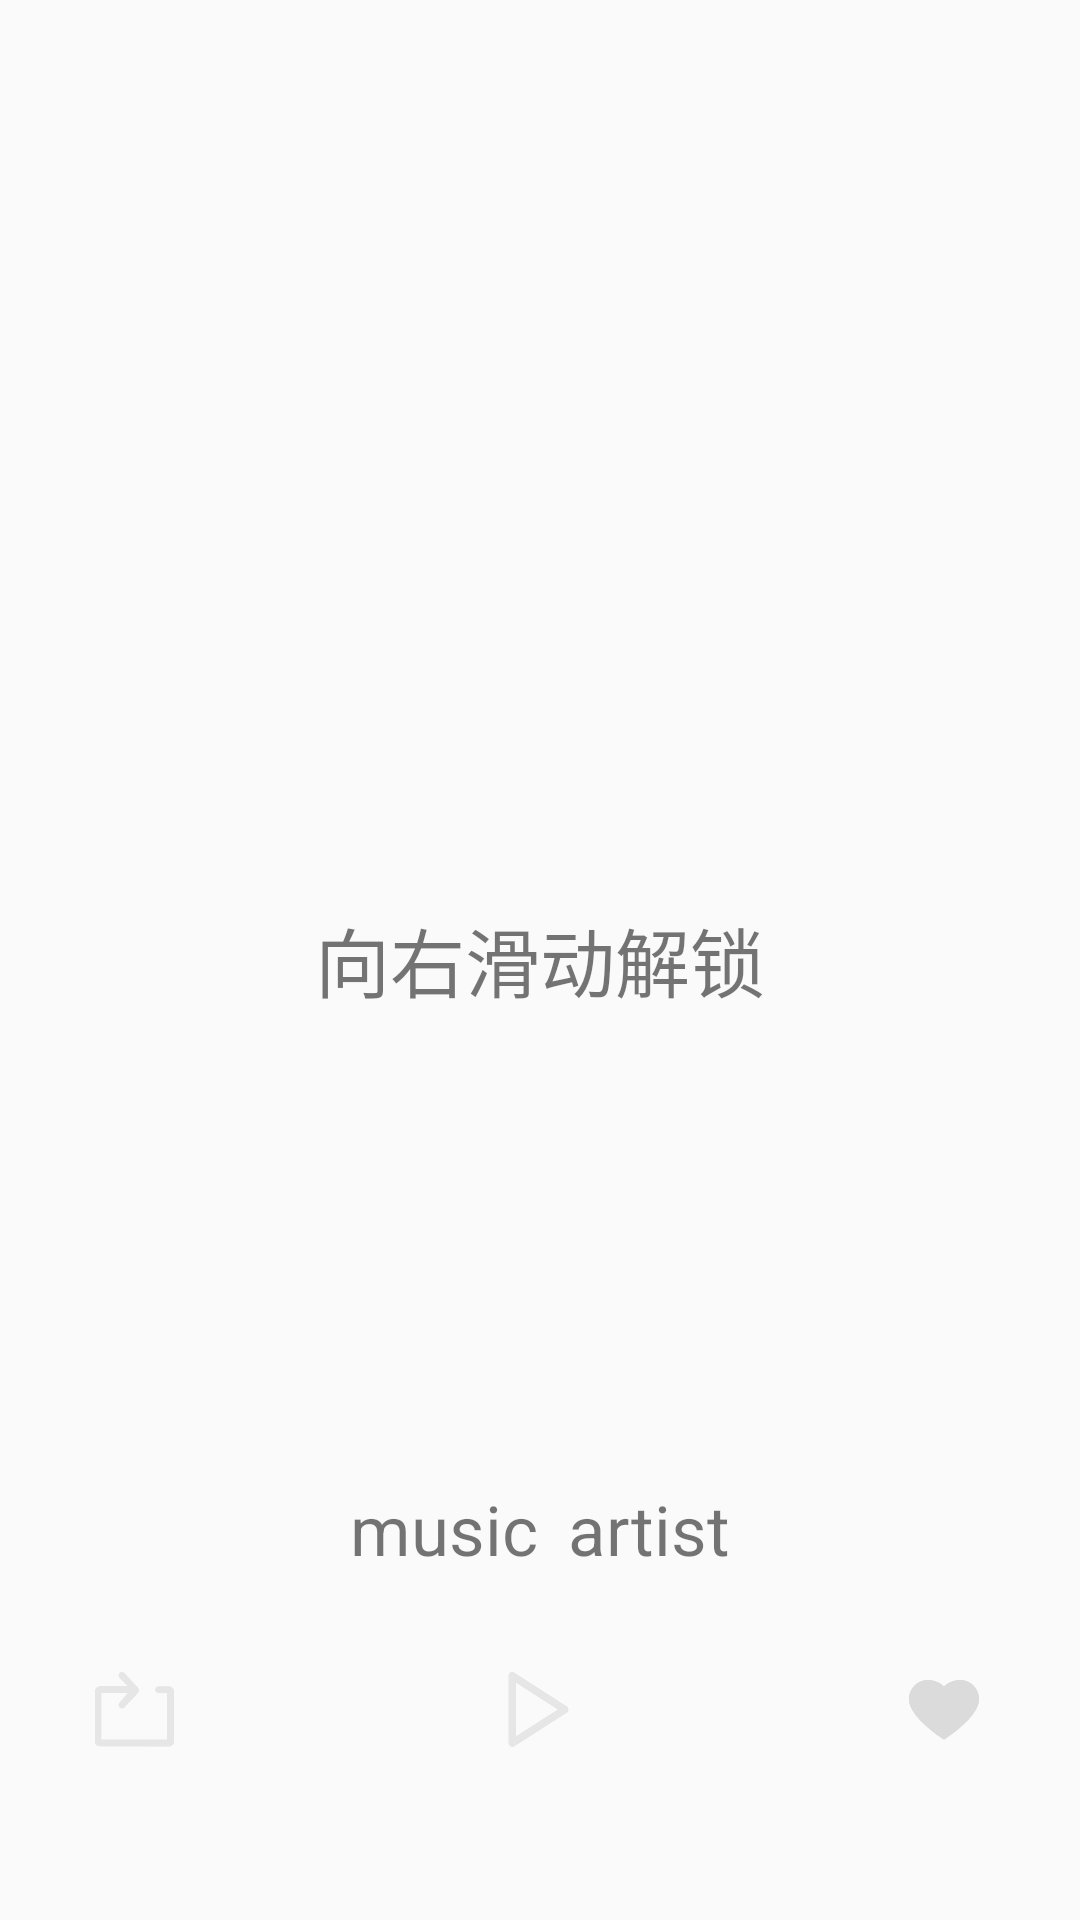

Where icons sit on this 1080x1920 app screen, as box=[x1, y1, x2, y2]:
list like: box=[909, 1680, 979, 1739]
